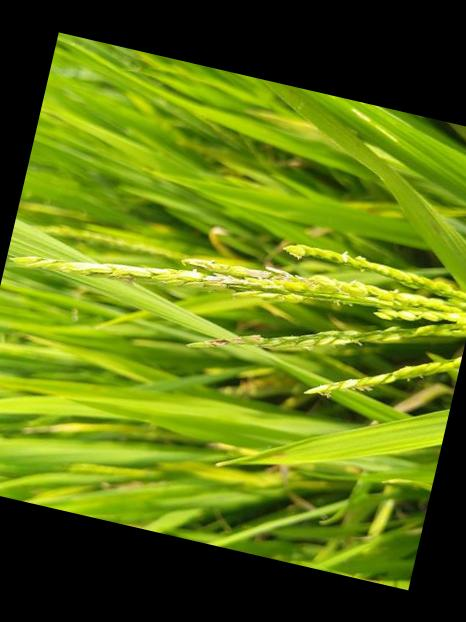Panicle Blight: (243, 264, 304, 280), (202, 336, 229, 348)
